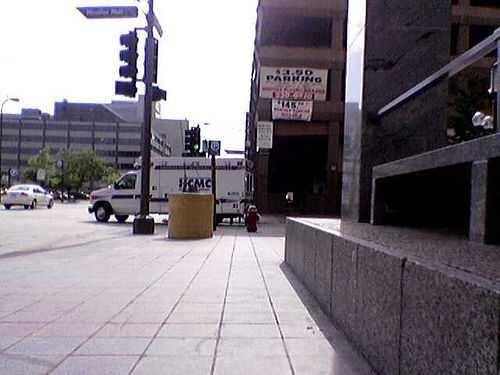Ambulance: (97, 145, 261, 242)
